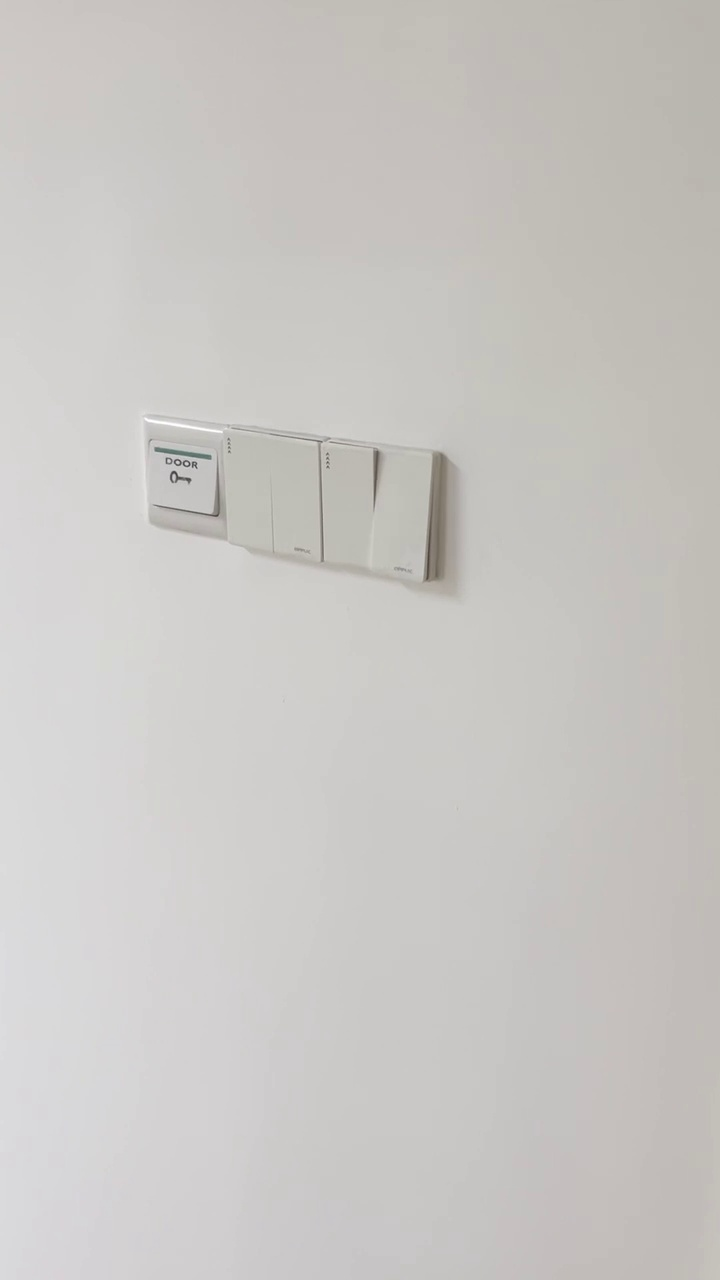button: (324, 432, 444, 586), (224, 423, 325, 567)
